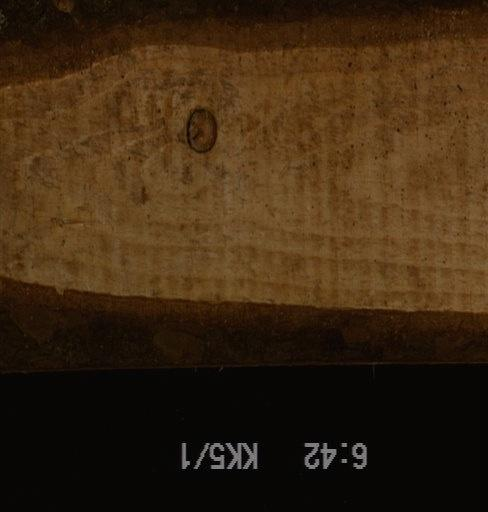dry_knot: (185, 107, 218, 154)
wave: (0, 278, 486, 373), (0, 0, 486, 89)
